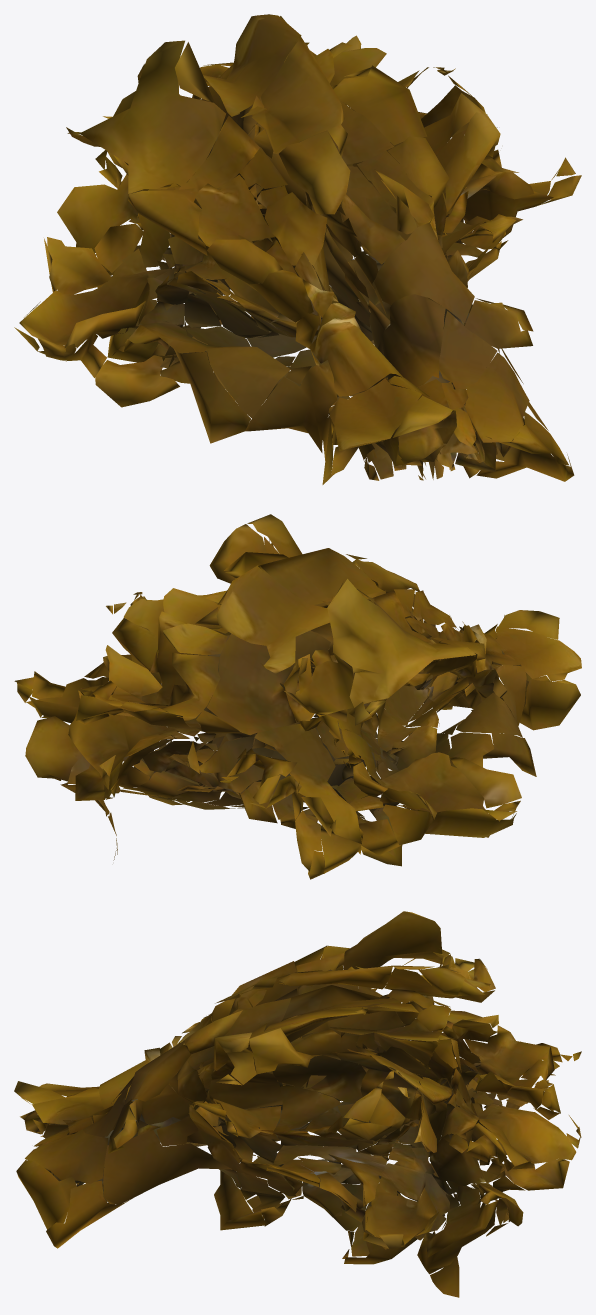
The model's file is kelp_bundle.glb.
The picture shows the model from 3 angles, top to bottom: view 1: azimuth 30°, elevation 25°; view 2: azimuth 150°, elevation 25°; view 3: azimuth 270°, elevation 25°; orthographic projection. The views are drawn at different scales.
Parts seen in each view (by area): view 1: tripo_node_32ce6760-fe47-4484-a557-9c5b0aa779f2; view 2: tripo_node_32ce6760-fe47-4484-a557-9c5b0aa779f2; view 3: tripo_node_32ce6760-fe47-4484-a557-9c5b0aa779f2.
Part boxes in pixels (left/top/right/bottom): tripo_node_32ce6760-fe47-4484-a557-9c5b0aa779f2: left=14, top=14, right=581, bottom=484; tripo_node_32ce6760-fe47-4484-a557-9c5b0aa779f2: left=14, top=514, right=581, bottom=879; tripo_node_32ce6760-fe47-4484-a557-9c5b0aa779f2: left=14, top=911, right=581, bottom=1297.
Size of the model in its own units: 0.938 by 0.5785 by 0.9993.
Materials: 1 (1 with a texture image).
